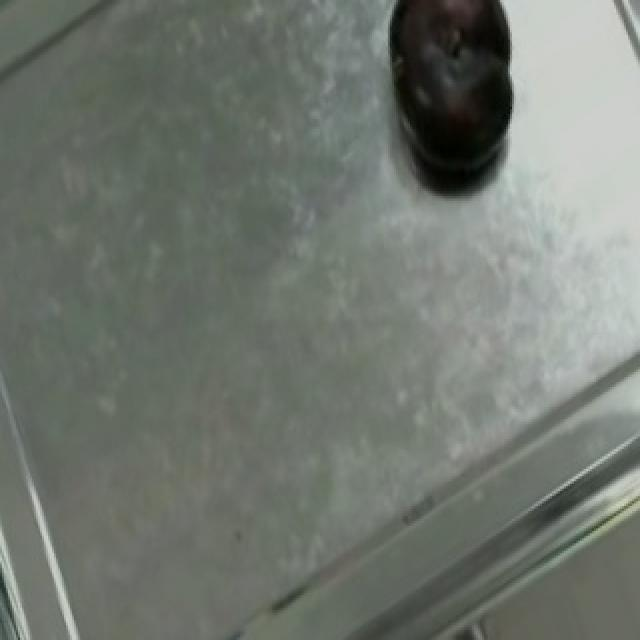Fruit: (366, 0, 536, 201)
